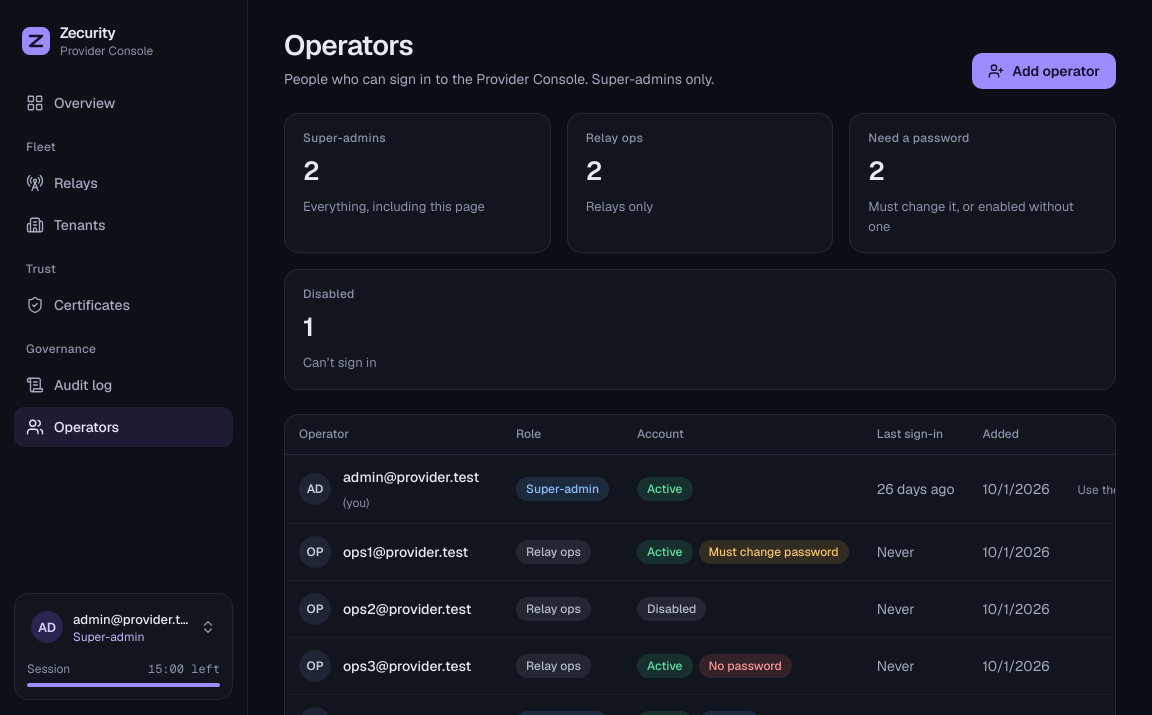
Provider users: add operator › already_exists shows a readable message and keeps the dialog open
Step 1. Click the button "Add operator" → [1044, 71], box x1=972 y1=53 x2=1116 y2=89
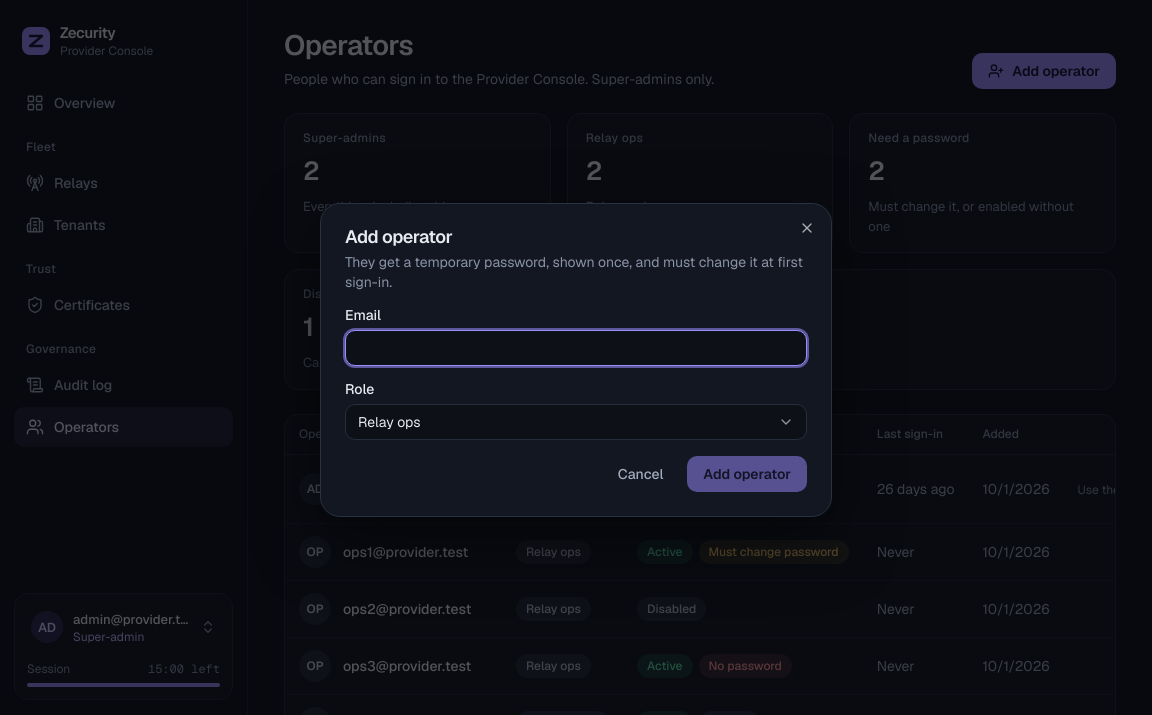
Step 2. Type "ops2@provider.test" into the field labelled "Email" → [576, 348], box x1=345 y1=330 x2=807 y2=366
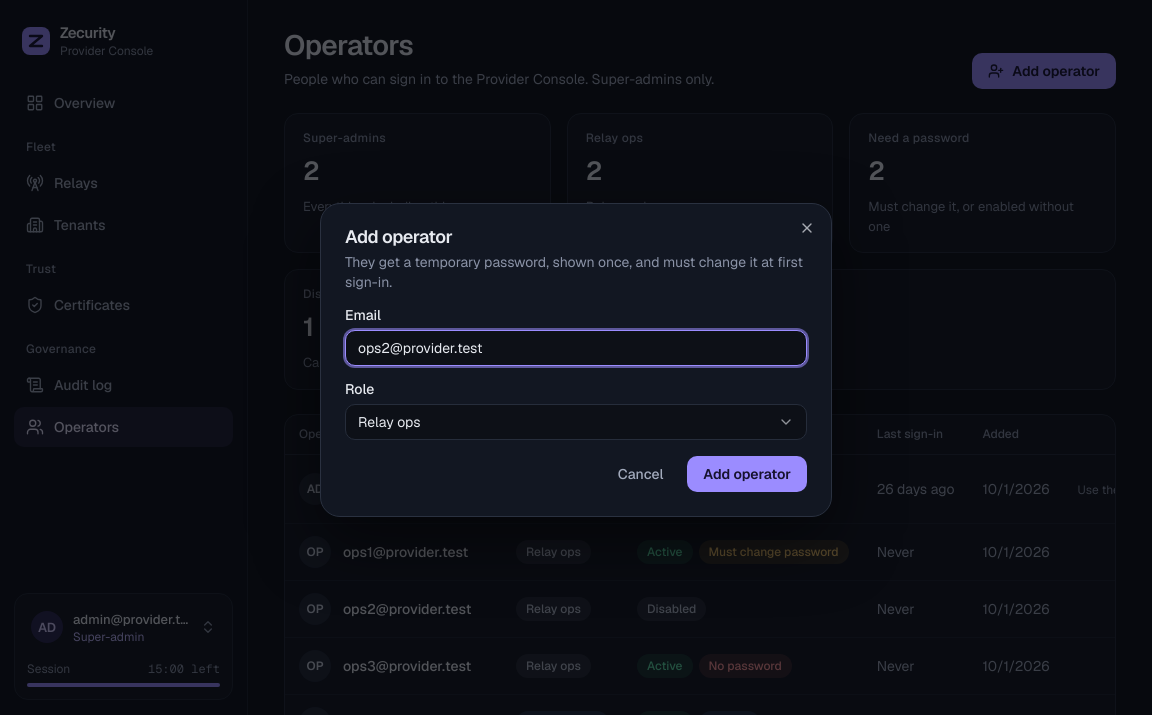
Step 3. Click the button "Add operator" → [747, 474], box x1=687 y1=456 x2=807 y2=492
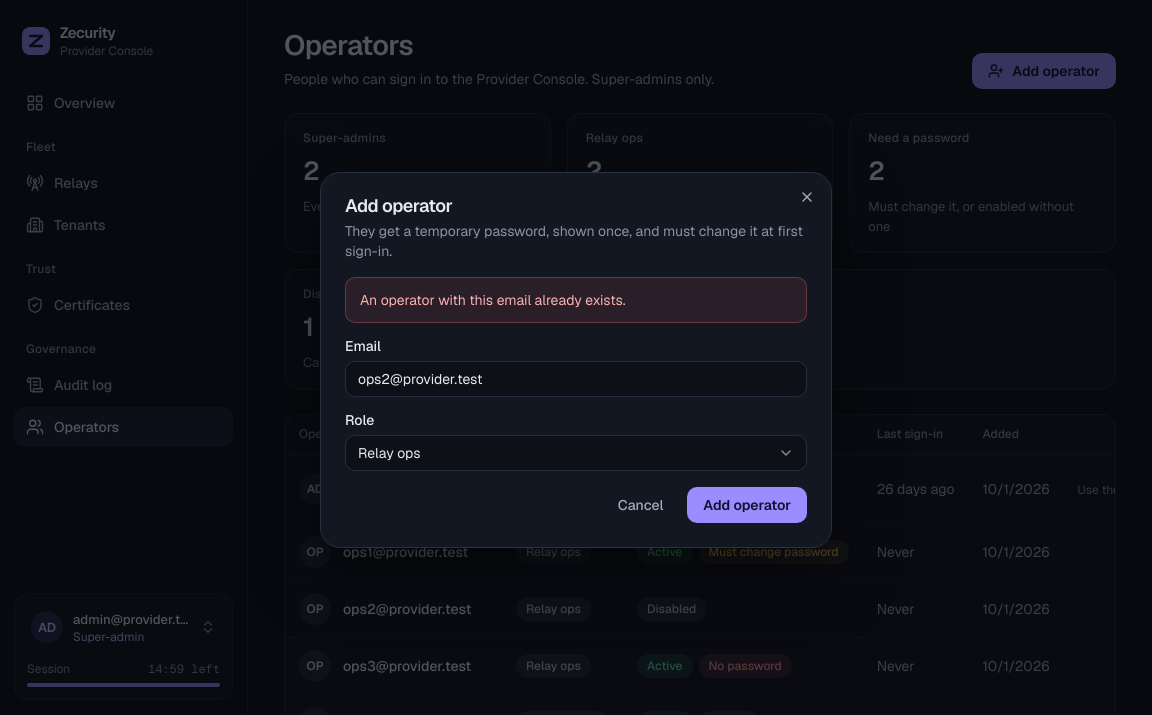
Result: the text "An operator with this email already exists." is shown at x1=360 y1=291 x2=626 y2=309
